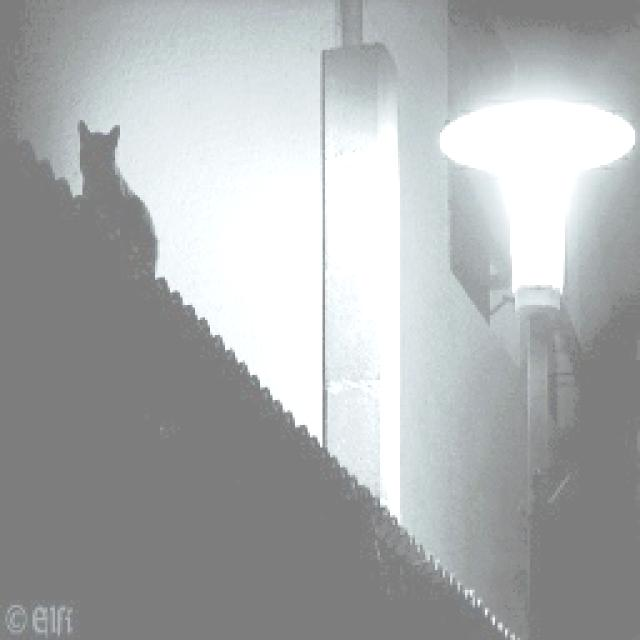cat: (37, 86, 193, 312)
